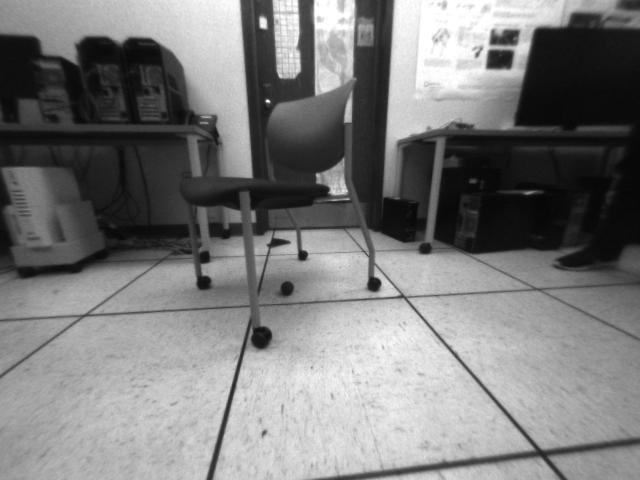dogtoy: (273, 274, 304, 301)
